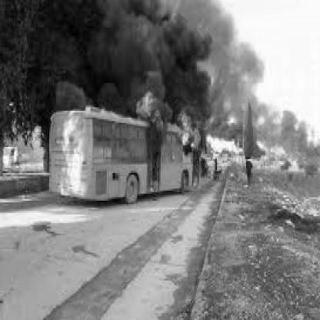Fire: (176, 106, 200, 146), (145, 178, 158, 192), (190, 173, 197, 183)
Smoke: (4, 0, 212, 98)
